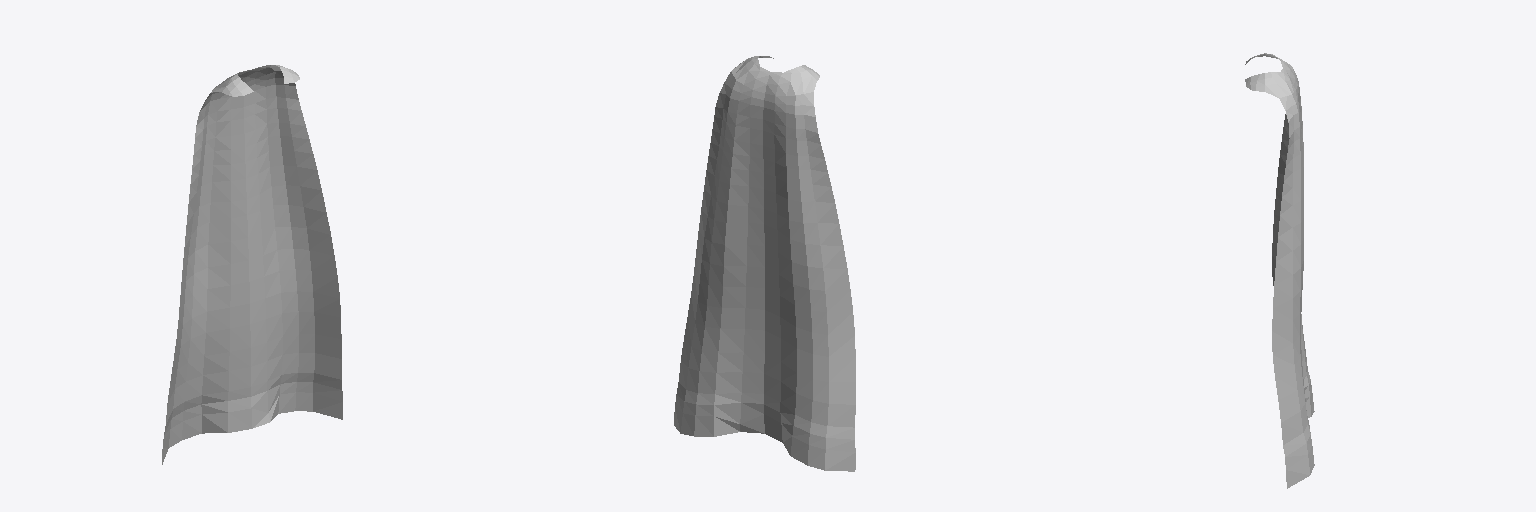
The model's file is Cape.obj.
3 views of the same model, side by side, from view 1: azimuth 30°, elevation 25°; view 2: azimuth 150°, elevation 25°; view 3: azimuth 270°, elevation 25° (orthographic).
Parts seen in each view (by area): view 1: Group 7; view 2: Group 7; view 3: Group 7.
Boxes of the visible parts, box(x1,y1,x2,y2) form: Group 7: box(162, 65, 342, 464); Group 7: box(674, 56, 855, 471); Group 7: box(1245, 53, 1314, 488).
Size of the model in its own units: 44.03 by 88.42 by 14.52.